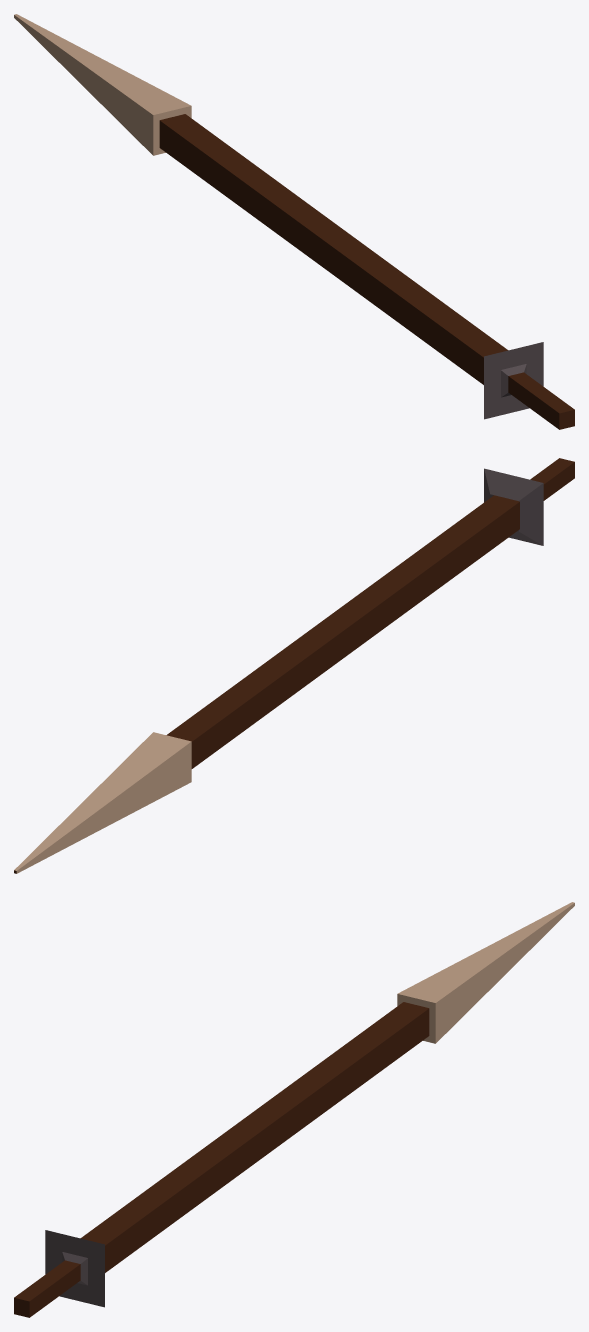
The model's file is spear.fbx.
The picture shows the model from 3 angles, top to bottom: view 1: azimuth 30°, elevation 25°; view 2: azimuth 150°, elevation 25°; view 3: azimuth 330°, elevation 25°; orthographic projection.
Visible parts, largest first — view 1: Cube; view 2: Cube; view 3: Cube.
Part boxes in pixels (x1=…): Cube: x1=14, y1=14, x2=574, y2=429; Cube: x1=14, y1=458, x2=574, y2=873; Cube: x1=14, y1=902, x2=574, y2=1317.
Size of the model in its own units: 0.7926 by 0.8039 by 12.75.
